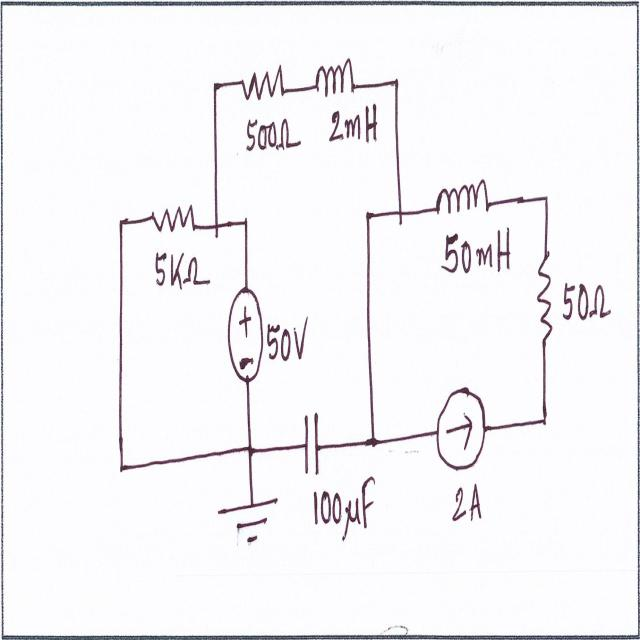capacitor: (299, 405, 322, 483)
current_source: (432, 382, 492, 475)
ground: (216, 496, 282, 546)
inductor: (310, 52, 359, 103), (433, 178, 489, 222)
resistor: (142, 199, 200, 241), (535, 245, 556, 351), (237, 64, 288, 104)
voltage_source: (226, 284, 267, 396)
